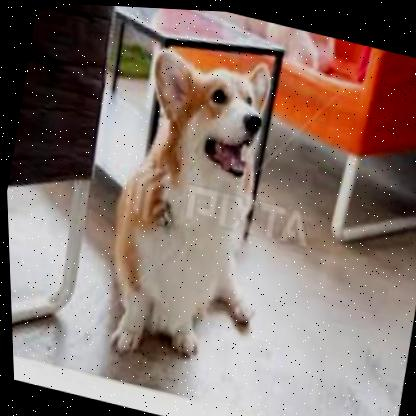dog: (81, 29, 304, 385)
